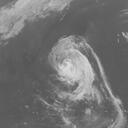cyclone: (48, 36, 105, 99)
